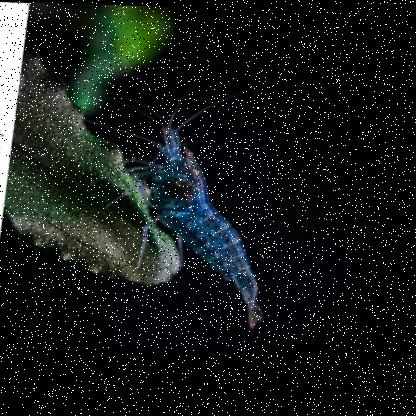shrimp: (103, 109, 293, 326)
